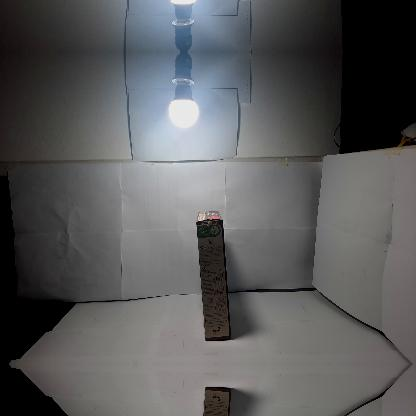Koko-Krunch: (196, 211, 232, 341), (196, 387, 233, 415)
